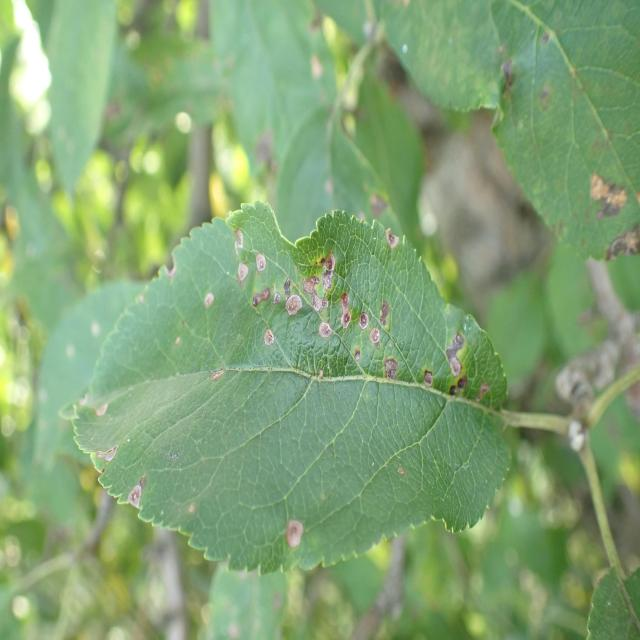frog-eye-leaf-spot: (60, 198, 512, 577), (381, 0, 640, 264)
